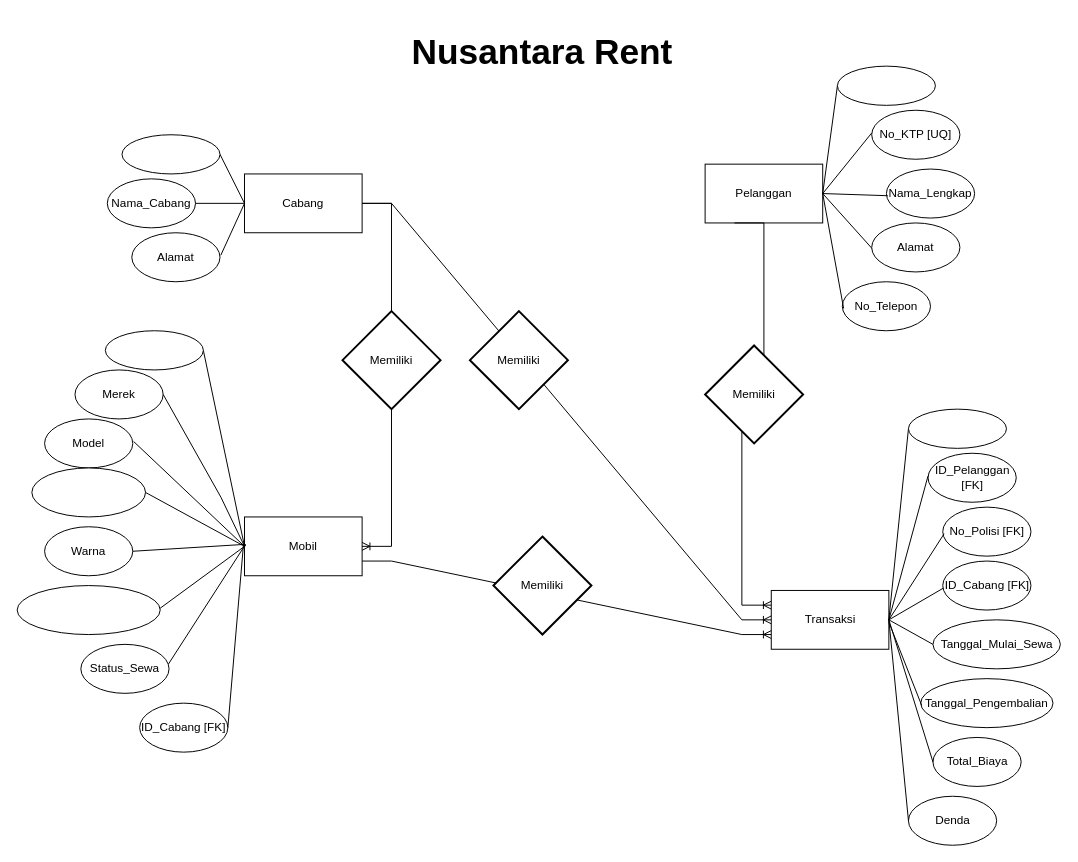
Some shapes in this 1078 by 862 pixel diagram are drawn without their labels. Here are the shapes that lost their labels. From the top down, the centre of each, then its label:
At [885,85]: "ID_Pelanggan".
At [170,154]: "ID_Cabang".
At [153,350]: "No_Polisi".
At [956,428]: "ID_Transaksi".
At [88,492]: "Tahun_Pembuatan".
At [88,610]: "Harga_Sewa_Per_Hari".
